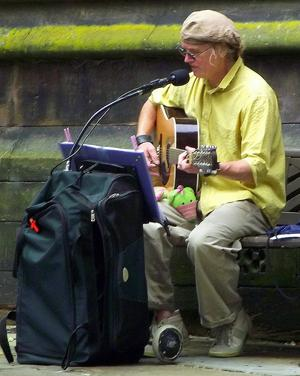person: (135, 11, 286, 358)
